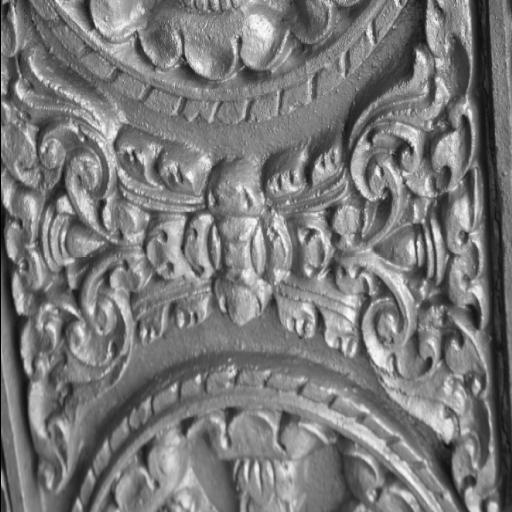la: (235, 0, 480, 512), (0, 0, 238, 512), (218, 411, 327, 512), (104, 435, 225, 512), (340, 461, 408, 512)
